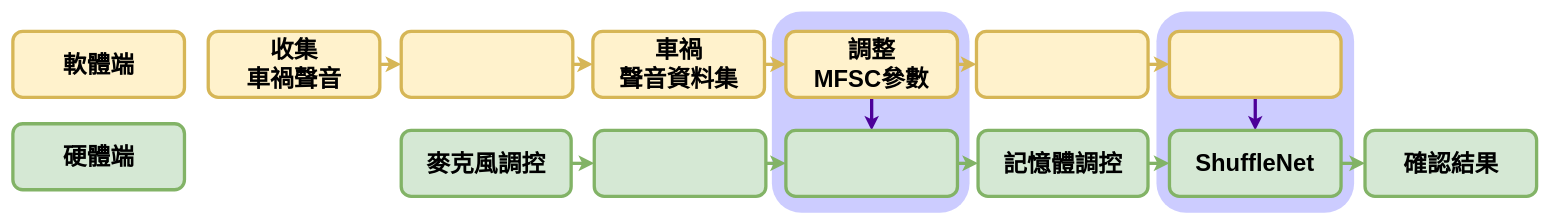
Some shapes in this 1550 by 224 pixel diagram are drawn without their labels. Each missing label, with the centre of its shape:
"MFSC" goes at [871,163].
"決定 神經網路架構" goes at [1061,64].
"訓練 神經網路參數" goes at [1254,64].
"音訊採集" goes at [679,163].
"音訊預處理 & 標籤" goes at [486,64].
